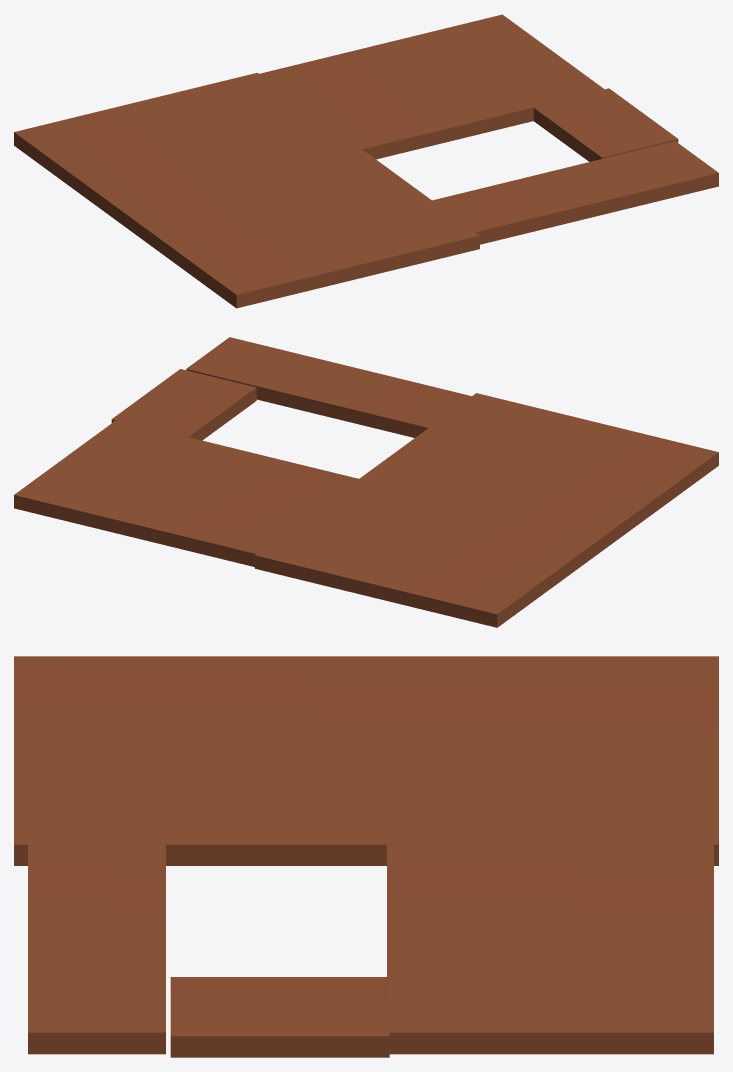
Rendered from Middle Floor with gap 2.fbx.
3 views of the same model, one above another, from view 1: azimuth 30°, elevation 25°; view 2: azimuth 150°, elevation 25°; view 3: azimuth 270°, elevation 25° (orthographic). The views are drawn at different scales.
Parts seen in each view (by area): view 1: Middle Floor with gap 2; view 2: Middle Floor with gap 2; view 3: Middle Floor with gap 2.
Boxes of the visible parts, x1,y1,x2,y2 form: Middle Floor with gap 2: (14,14,718,308); Middle Floor with gap 2: (14,337,718,627); Middle Floor with gap 2: (14,656,718,1057).
Size of the model in its own units: 324 by 8.51 by 254.
